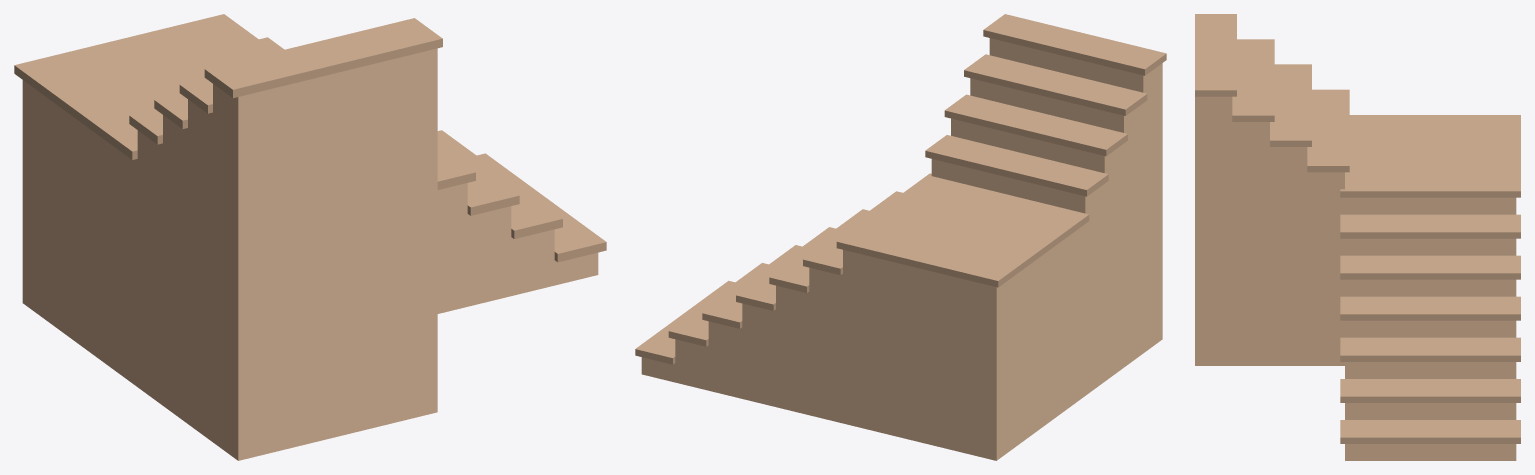
File: stairsCorner.gltf
3 renders of one model, left to right at view 1: azimuth 30°, elevation 25°; view 2: azimuth 150°, elevation 25°; view 3: azimuth 270°, elevation 25°, orthographic. The views are drawn at different scales.
Parts seen in each view (by area): view 1: stairsCorner; view 2: stairsCorner; view 3: stairsCorner.
Boxes of the visible parts, x1,y1,x2,y2 form: stairsCorner: (14, 14, 606, 460); stairsCorner: (635, 14, 1166, 460); stairsCorner: (1195, 14, 1520, 460).
Bounding box in the file's own units: 17.74 × 13.4 × 14.26.
